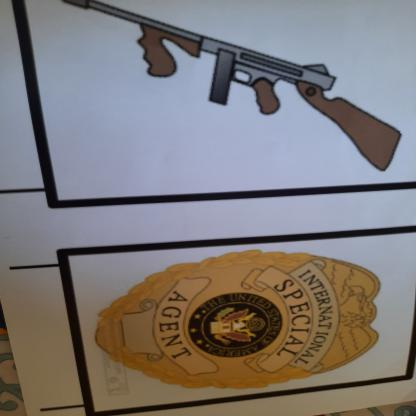Bootlegger: (43, 1, 412, 185)
G-man: (78, 245, 394, 400)
